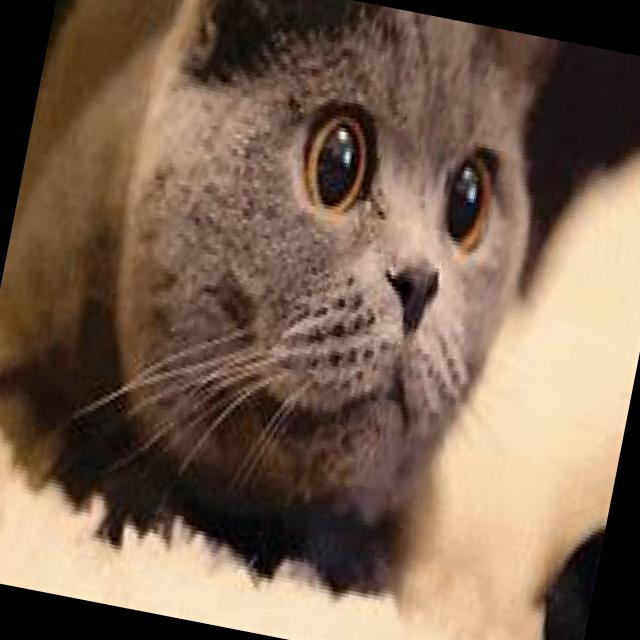cat: (0, 0, 563, 557)
